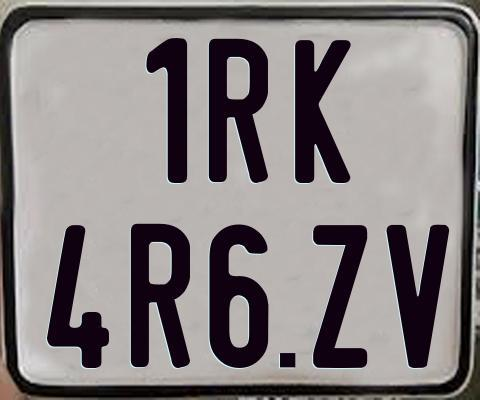1: (143, 37, 187, 182)
4: (44, 224, 111, 367)
6: (209, 223, 273, 372)
K: (293, 40, 350, 186)
R: (209, 37, 271, 181), (130, 222, 192, 366)
V: (383, 225, 451, 370)
Z: (312, 225, 370, 369)
